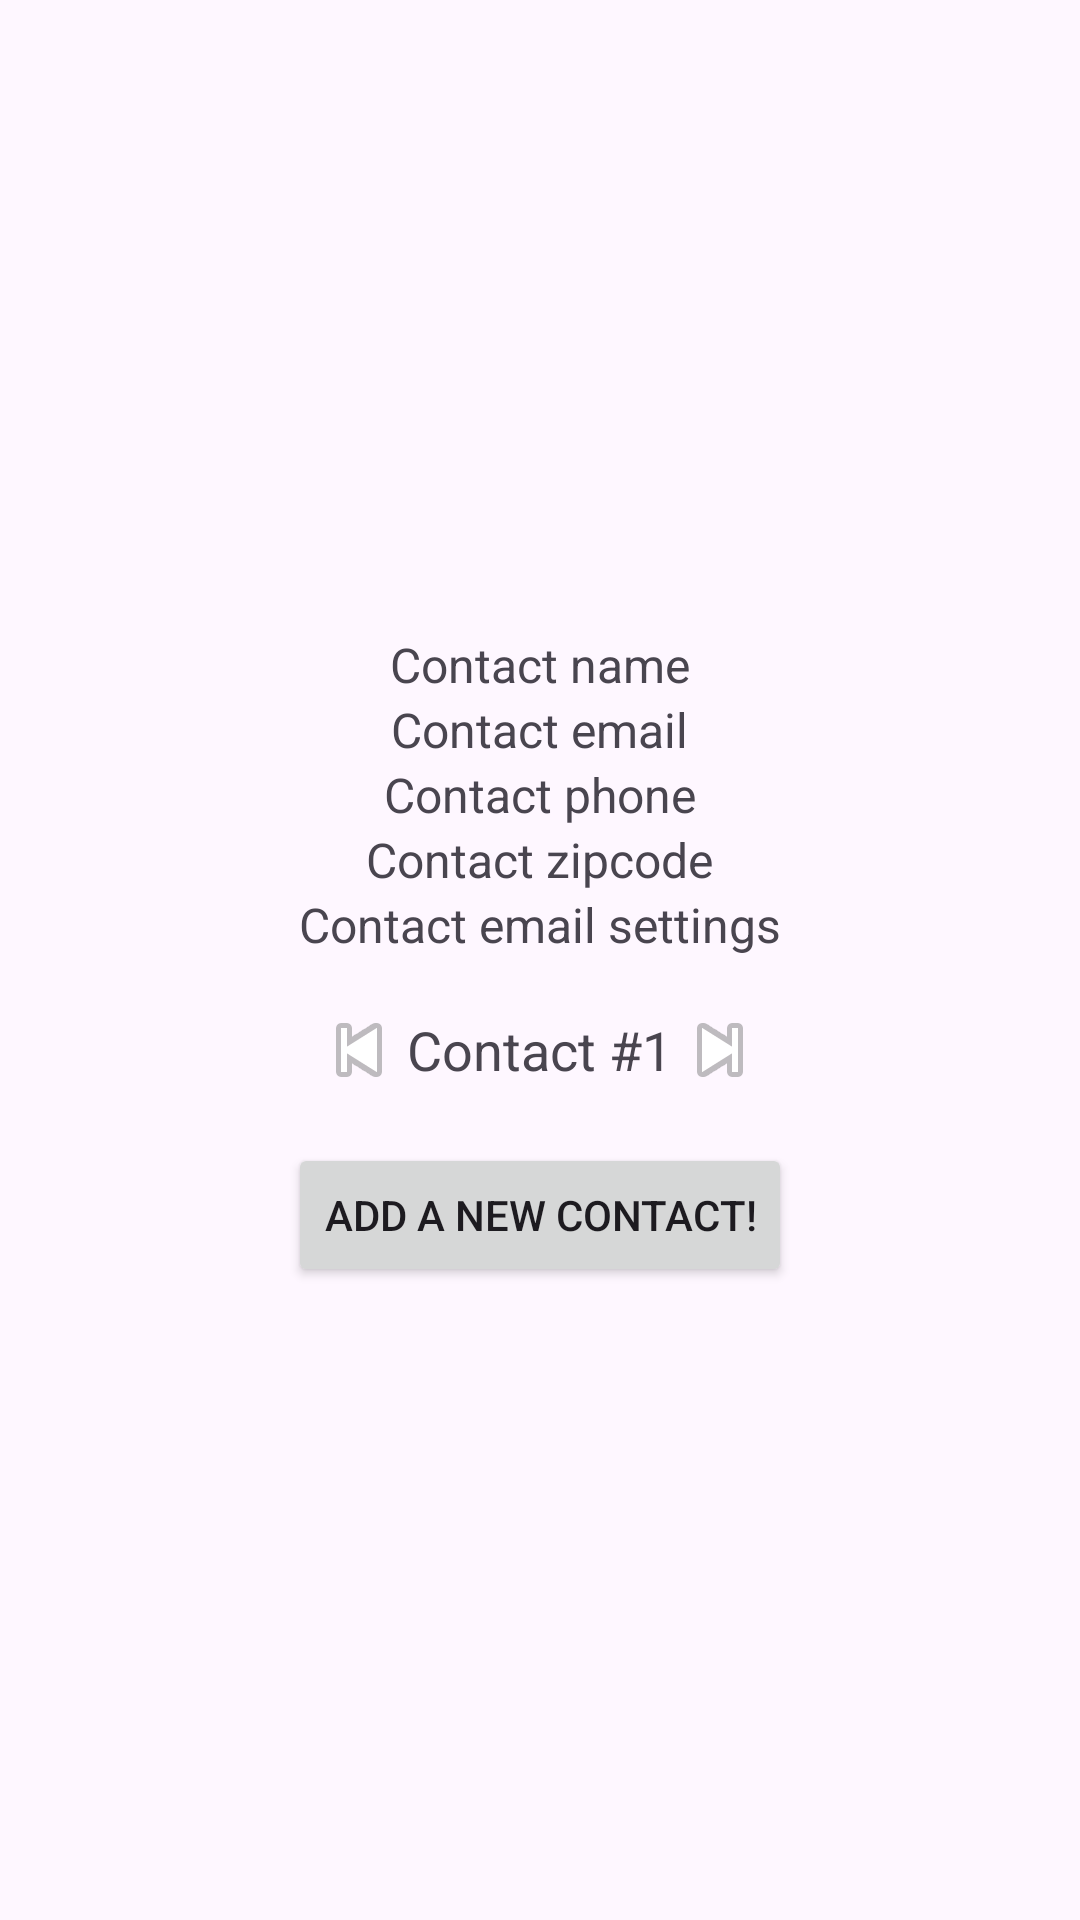

Icon click points for this 1080*1920 phone screenshot, format [x,y]:
next: [720,1050]
previous: [359,1050]
